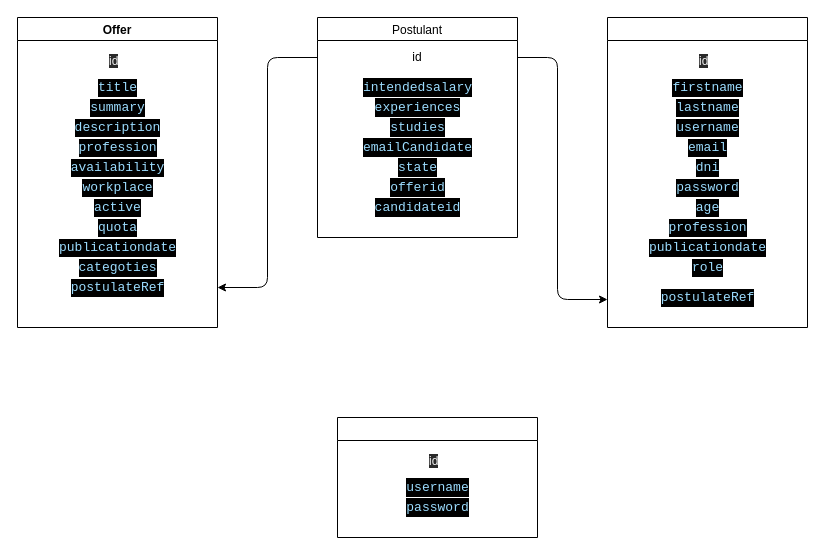
Image size: 825x555. Some labels were removed from this diagram. Here are the shapes that lost their labels. From the top down, the box of each, then its label:
(606, 16, 808, 328): Candidate
(336, 416, 538, 538): Admin
